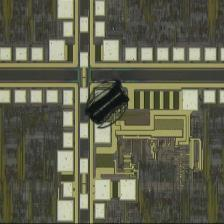PARTICLE: (84, 77, 132, 131)
